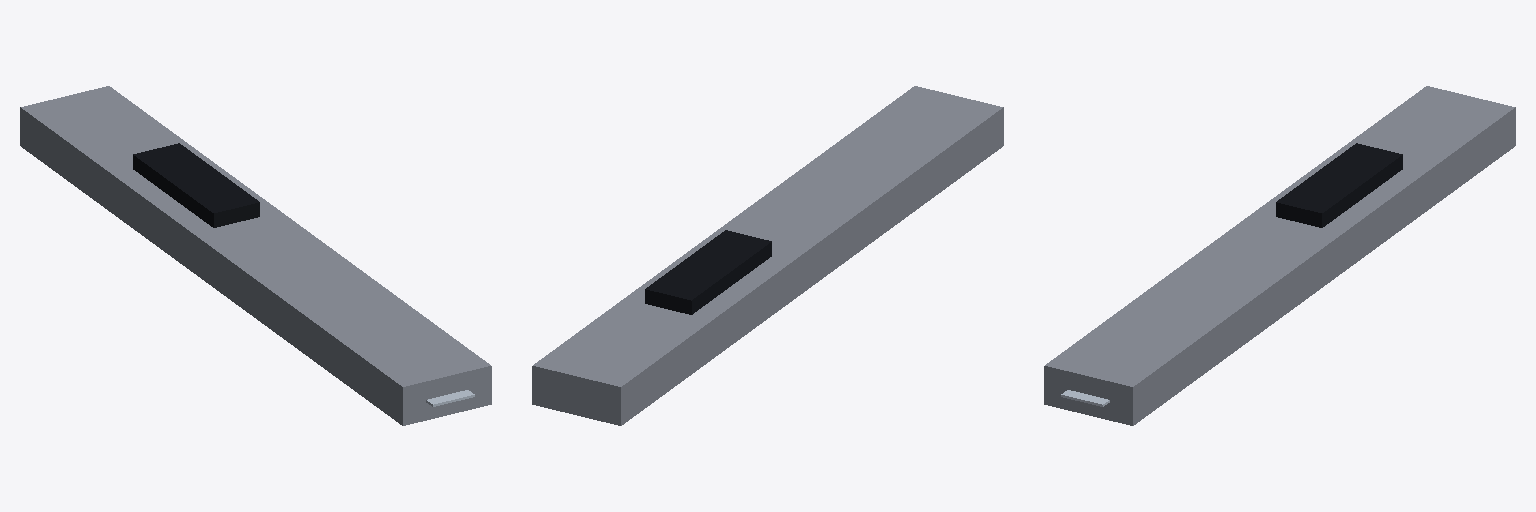
URDF robot description (nt_a300gr_scripted_preview):
<?xml version='1.0' encoding='utf-8'?>
<robot name="nt_a300gr_scripted_preview"><link name="link_0"><inertial><mass value="0.029" /><inertia ixx="4.8884333333333336e-05" iyy="1.0270833333333376e-06" izz="4.9602083333333334e-05" ixy="0" ixz="0" iyz="0" /></inertial><visual><geometry><box size="0.019 0.142 0.008" /></geometry><material name="link_0_color"><color rgba=".58 .60 .64 1" /></material></visual><collision><geometry><box size="0.019 0.142 0.008" /></geometry></collision></link><link name="link_1"><inertial><mass value="0.006" /><inertia ixx="4.545e-07" iyy="5.45e-08" izz="5e-07" ixy="0" ixz="0" iyz="0" /></inertial><visual><geometry><box size="0.01 0.03 0.003" /></geometry><material name="link_1_color"><color rgba=".12 .13 .15 1" /></material></visual><collision><geometry><box size="0.01 0.03 0.003" /></geometry></collision><visual><origin xyz="0.0 -0.07554999999999999 -0.0054999999999999945" /><geometry><box size=".009 .040 .0005" /></geometry><material name="visual_only_blade"><color rgba=".75 .79 .84 1" /></material></visual></link><joint name="slider" type="prismatic"><parent link="link_0" /><child link="link_1" /><origin xyz="0.0 0.022049999999999997 0.0054999999999999945" /><axis xyz="0 -1 0" /><limit lower="0" upper="0.05" effort="100" velocity="1" /><dynamics damping=".3" friction=".001" /></joint></robot>

--- Render facts (derived) ---
3 views of the same robot in one strip: view 1: azimuth 30°, elevation 25°; view 2: azimuth 150°, elevation 25°; view 3: azimuth 330°, elevation 25° (orthographic).
Robot: nt_a300gr_scripted_preview — 2 links, 1 joints (1 prismatic); root link link_0; default pose: every joint at zero.
Links seen in each view (by area): view 1: link_0, link_1; view 2: link_0, link_1; view 3: link_0, link_1.
Link boxes in pixels (left/top/right/bottom): link_0: left=20, top=86, right=491, bottom=425; link_1: left=133, top=143, right=474, bottom=406; link_0: left=532, top=86, right=1003, bottom=425; link_1: left=645, top=230, right=771, bottom=314; link_0: left=1044, top=86, right=1515, bottom=425; link_1: left=1061, top=143, right=1402, bottom=406.
Size in the robot's own frame: 0.019 by 0.1445 by 0.011 metres.
Geometry: primitives only (box / cylinder / sphere), no mesh files.
